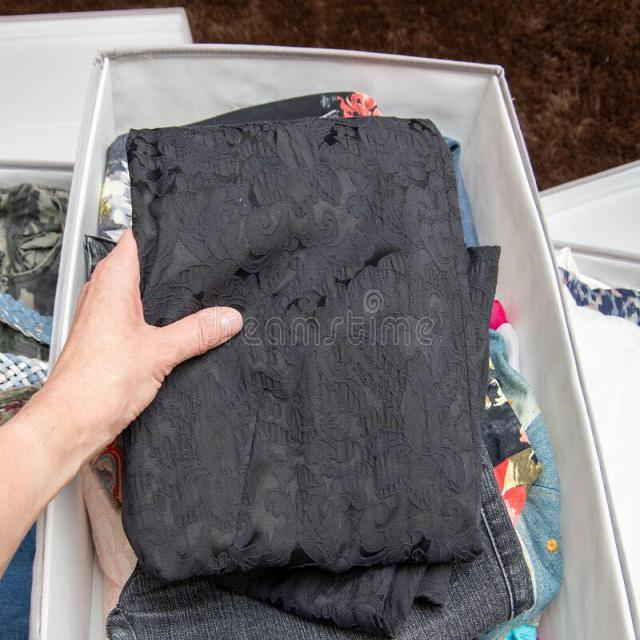clothes: (124, 107, 478, 574)
